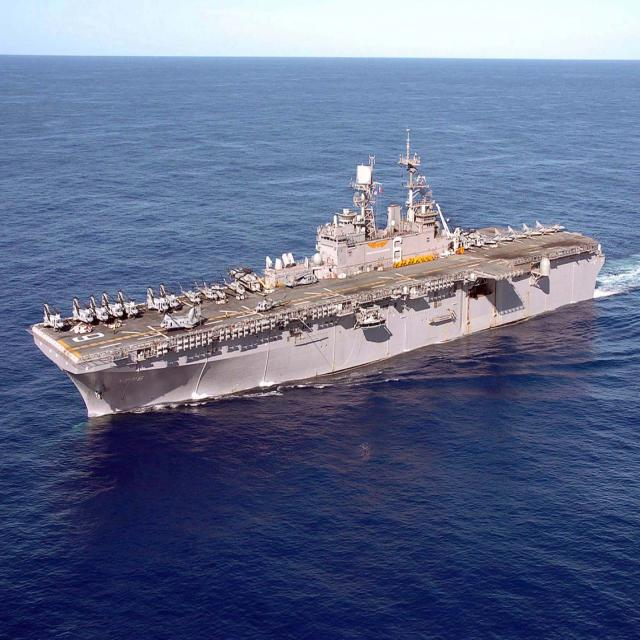navalvessels: (10, 115, 617, 417)
